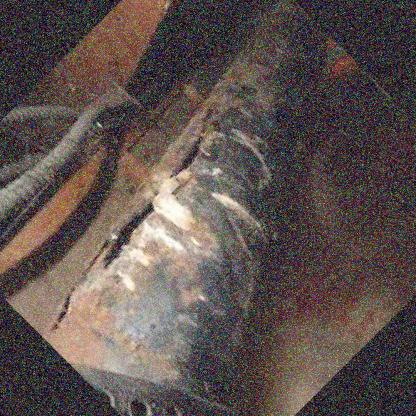burst: (94, 197, 166, 269), (168, 118, 224, 169)
